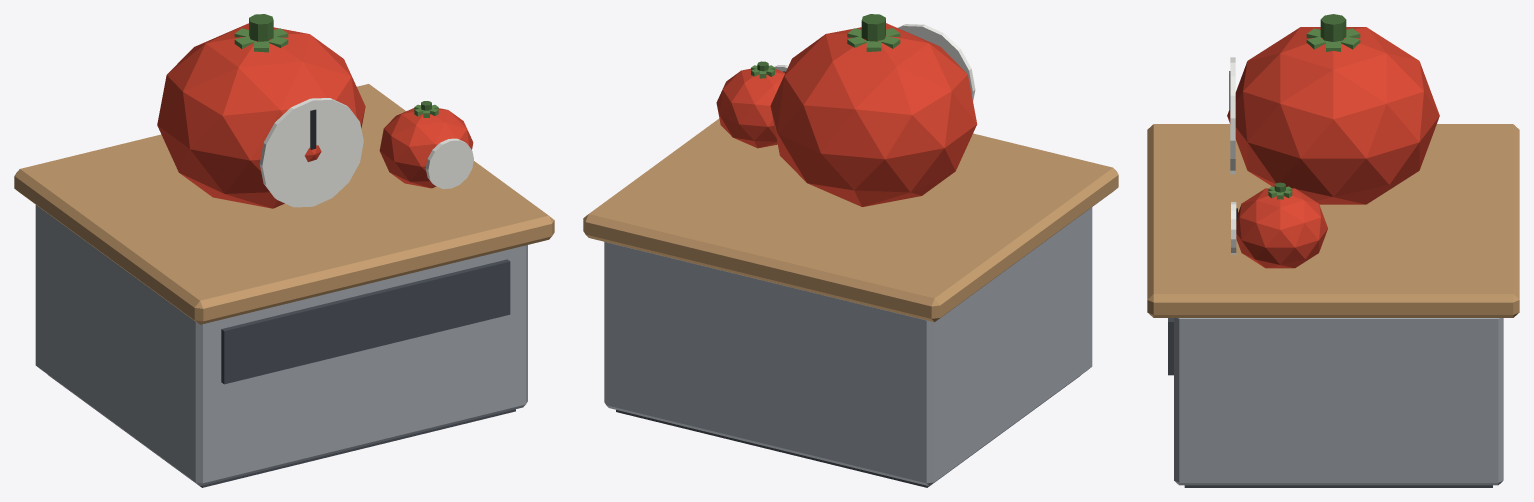
Rendered from pomodoro_2.glb.
3 views of the same model, side by side, from view 1: azimuth 30°, elevation 25°; view 2: azimuth 150°, elevation 25°; view 3: azimuth 270°, elevation 25° (orthographic).
Visible parts, largest first — view 1: pomodoro_2_mesh_Desk, pomodoro_2_mesh; view 2: pomodoro_2_mesh_Desk, pomodoro_2_mesh; view 3: pomodoro_2_mesh_Desk, pomodoro_2_mesh.
Boxes of the visible parts, <box> form: pomodoro_2_mesh_Desk: <box>14,84,554,487</box>; pomodoro_2_mesh: <box>157,14,473,208</box>; pomodoro_2_mesh_Desk: <box>583,118,1118,487</box>; pomodoro_2_mesh: <box>716,14,977,206</box>; pomodoro_2_mesh_Desk: <box>1147,124,1519,487</box>; pomodoro_2_mesh: <box>1227,14,1439,268</box>.
Size of the model in its own units: 0.78 by 0.79 by 0.7.
